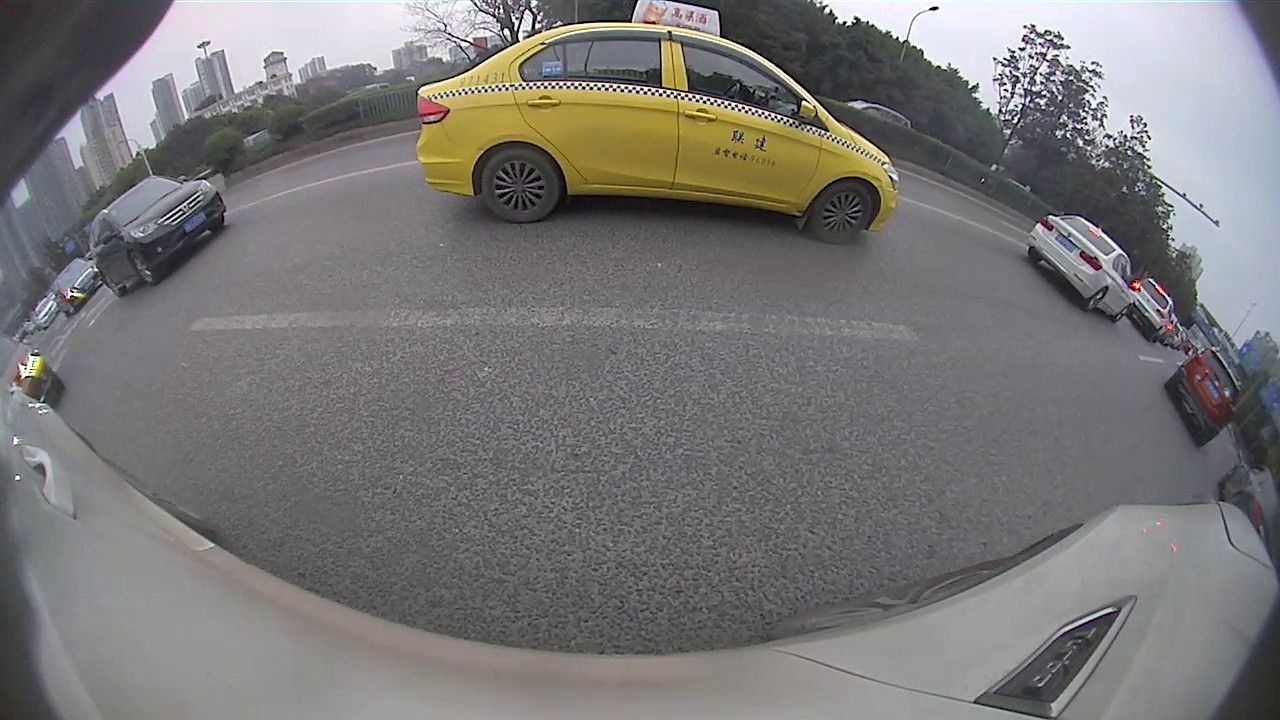car: (414, 2, 900, 244), (86, 176, 226, 296), (1028, 211, 1134, 324), (1166, 346, 1244, 447), (1219, 463, 1279, 553), (2, 334, 64, 408), (1129, 278, 1175, 342), (50, 260, 102, 316)
front: (808, 179, 873, 245), (130, 249, 158, 286)
rear: (480, 143, 562, 223), (1082, 287, 1112, 316)
